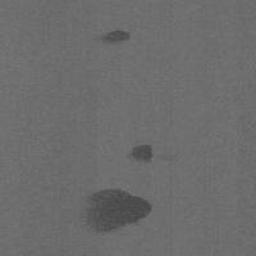Oil spot: (79, 187, 154, 234), (90, 28, 132, 46), (127, 142, 154, 165)
